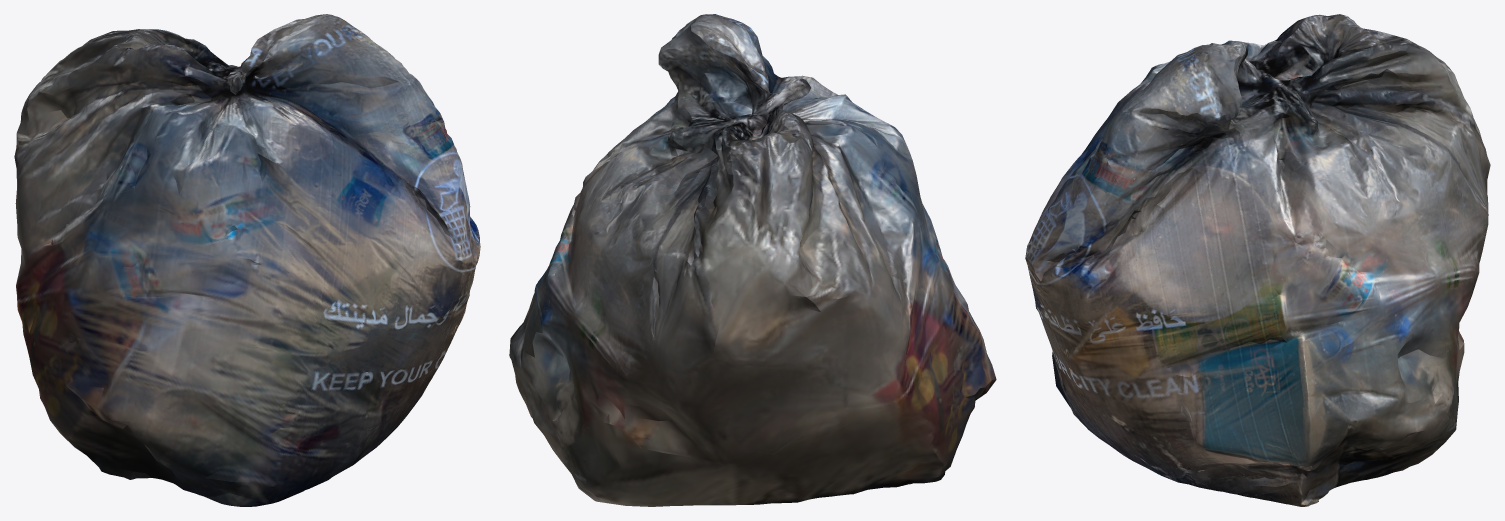
The model's file is photogrammetry_of_trash_plastic_bag.glb.
The picture shows the model from 3 angles, left to right: view 1: azimuth 30°, elevation 25°; view 2: azimuth 150°, elevation 25°; view 3: azimuth 270°, elevation 25°; orthographic projection.
Visible parts, largest first — view 1: Object_3; view 2: Object_3; view 3: Object_3.
Part boxes in pixels (x1=…): Object_3: x1=14, y1=14, x2=480, y2=506; Object_3: x1=509, y1=14, x2=996, y2=506; Object_3: x1=1025, y1=14, x2=1490, y2=506.
Size of the model in its own units: 1.71 by 1.62 by 1.7.
Materials: 2 (1 with a texture image).
